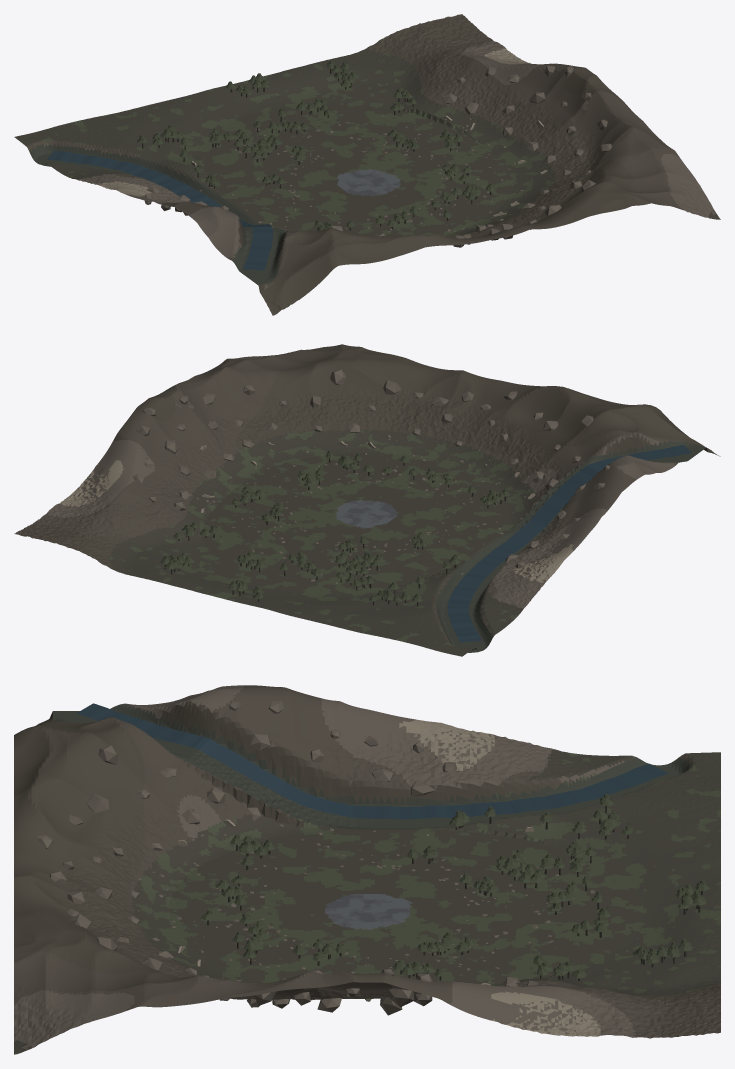
Rendered from terrain_map_v001.glb.
3 renders of one model, top to bottom at view 1: azimuth 30°, elevation 25°; view 2: azimuth 150°, elevation 25°; view 3: azimuth 270°, elevation 25°, orthographic. The views are drawn at different scales.
Visible parts, largest first — view 1: Terrain_Chunk_04_02, Props_Trees, Terrain_Chunk_00_00, Terrain_Chunk_04_01, Terrain_Chunk_04_00, Terrain_Chunk_04_04, Terrain_Chunk_03_04, Terrain_Chunk_03_03, Terrain_Chunk_02_02, Terrain_Chunk_02_04, Terrain_Chunk_00_04, Terrain_Chunk_04_03 (+17 smaller); view 2: Terrain_Chunk_02_00, Terrain_Chunk_03_00, Terrain_Chunk_04_01, Terrain_Chunk_04_02, Props_Trees, Terrain_Chunk_04_03, Terrain_Chunk_03_01, Terrain_Chunk_01_00, Terrain_Chunk_04_04, Terrain_Chunk_01_01, River_Water, Terrain_Chunk_02_02 (+17 smaller); view 3: Terrain_Chunk_00_02, Terrain_Chunk_01_00, Terrain_Chunk_00_01, Terrain_Chunk_01_01, Props_Trees, Terrain_Chunk_04_00, Terrain_Chunk_00_03, Terrain_Chunk_02_00, Terrain_Chunk_02_02, Terrain_Chunk_01_04, River_Water, Terrain_Chunk_01_02 (+17 smaller).
Boxes of the visible parts, bbox=[...] form: Terrain_Chunk_04_02: bbox=[476, 64, 616, 166]; Props_Trees: bbox=[137, 59, 495, 230]; Terrain_Chunk_00_00: bbox=[221, 227, 361, 315]; Terrain_Chunk_04_01: bbox=[528, 93, 668, 183]; Terrain_Chunk_04_00: bbox=[582, 144, 720, 219]; Terrain_Chunk_04_04: bbox=[373, 14, 513, 83]; Terrain_Chunk_03_04: bbox=[283, 45, 423, 115]; Terrain_Chunk_03_03: bbox=[335, 84, 475, 152]; Terrain_Chunk_02_02: bbox=[297, 153, 437, 212]; Terrain_Chunk_02_04: bbox=[193, 71, 334, 136]; Terrain_Chunk_00_04: bbox=[14, 115, 154, 175]; Terrain_Chunk_04_03: bbox=[424, 54, 557, 127]; Terrain_Chunk_02_00: bbox=[400, 370, 539, 461]; Terrain_Chunk_03_00: bbox=[314, 347, 451, 440]; Terrain_Chunk_04_01: bbox=[170, 361, 309, 458]; Terrain_Chunk_04_02: bbox=[118, 386, 258, 495]; Props_Trees: bbox=[160, 450, 510, 606]; Terrain_Chunk_04_03: bbox=[66, 432, 203, 527]; Terrain_Chunk_03_01: bbox=[259, 403, 399, 483]; Terrain_Chunk_01_00: bbox=[490, 386, 630, 461]; Terrain_Chunk_04_04: bbox=[14, 498, 154, 564]; Terrain_Chunk_01_01: bbox=[438, 453, 579, 523]; River_Water: bbox=[447, 445, 691, 642]; Terrain_Chunk_02_02: bbox=[297, 484, 437, 543]; Terrain_Chunk_00_02: bbox=[296, 691, 438, 825]; Terrain_Chunk_01_00: bbox=[14, 737, 155, 871]; Terrain_Chunk_00_01: bbox=[155, 685, 296, 812]; Terrain_Chunk_01_01: bbox=[155, 771, 296, 880]; Props_Trees: bbox=[201, 793, 709, 980]; Terrain_Chunk_04_00: bbox=[14, 939, 155, 1054]; Terrain_Chunk_00_03: bbox=[438, 722, 579, 825]; Terrain_Chunk_02_00: bbox=[14, 817, 155, 933]; Terrain_Chunk_02_02: bbox=[296, 880, 438, 940]; Terrain_Chunk_01_04: bbox=[579, 812, 720, 880]; River_Water: bbox=[76, 703, 668, 819]; Terrain_Chunk_01_02: bbox=[296, 812, 438, 880].
Size of the model in its own units: 320 by 44.77 by 320.
